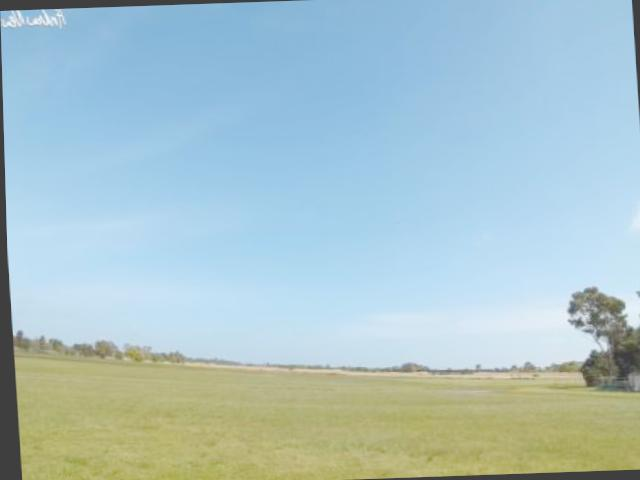uav: (392, 210, 406, 230)
